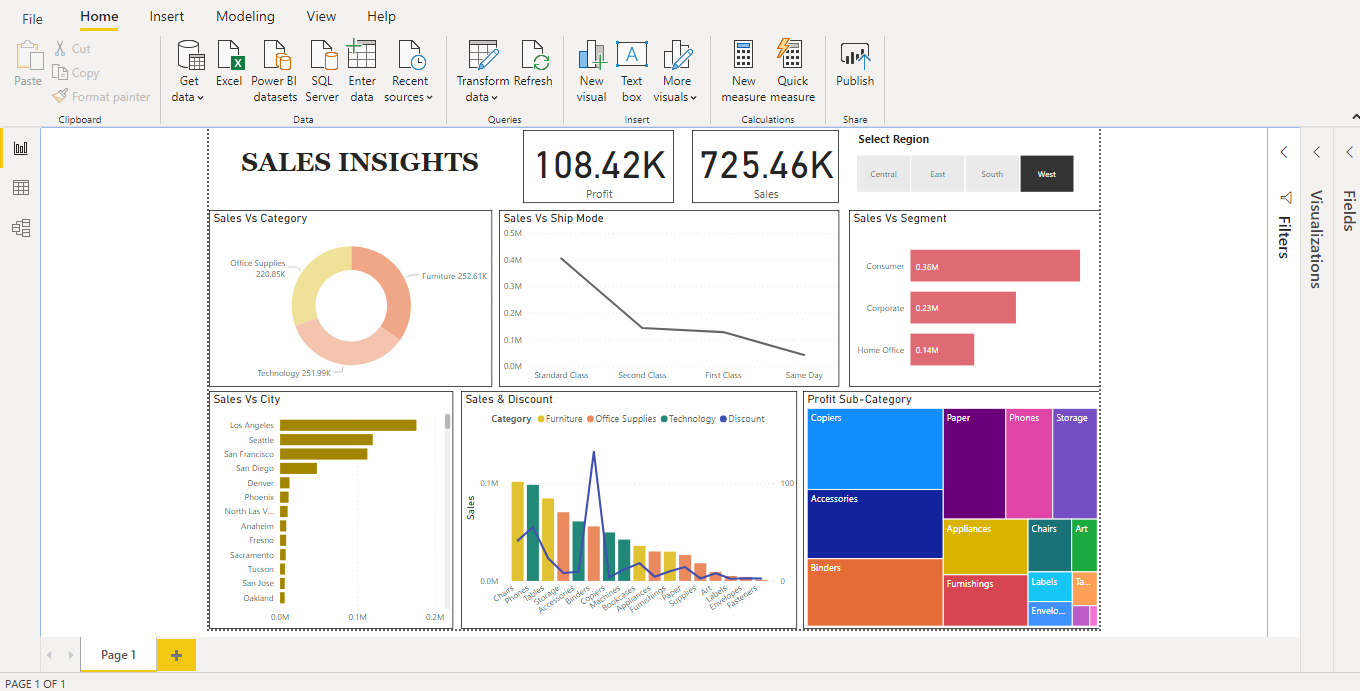

This screenshot's page, from the dashboard's own definition file:
{"tool":"powerbi","page":{"name":"Page 1","canvas":[1280,720],"ordinal":0},"visuals":[{"type":"treemap","title":"Profit Sub-Category","fields":{"Group":["SampleSuperstore.Sub-Category"],"Values":["Sum(SampleSuperstore.Profit)"]},"box":[853.7,378,426.8,342],"z":0},{"type":"card","fields":{"Values":["Sum(SampleSuperstore.Profit)"]},"box":[451.3,2.9,217,104.9],"z":1000},{"type":"donutChart","title":"Sales Vs Category","fields":{"Y":["Sum(SampleSuperstore.Sales)"],"Category":["SampleSuperstore.Category"]},"box":[0,117.8,406.7,254.4],"z":2000},{"type":"card","fields":{"Values":["Sum(SampleSuperstore.Sales)"]},"box":[694.1,2.9,211.3,104.9],"z":3000},{"type":"barChart","title":"Sales Vs City","fields":{"Category":["SampleSuperstore.City"],"Y":["Sum(SampleSuperstore.Sales)"]},"box":[0,378,350.7,342],"z":4000},{"type":"barChart","title":"Sales Vs Segment","fields":{"Category":["SampleSuperstore.Segment"],"Y":["Sum(SampleSuperstore.Sales)"]},"box":[919.8,117.8,360.7,254.4],"z":5000},{"type":"slicer","fields":{"Values":["SampleSuperstore.Region"]},"box":[905.4,18.7,360.7,80.5],"z":6000},{"type":"lineStackedColumnComboChart","title":"Sales & Discount","fields":{"Category":["SampleSuperstore.Sub-Category"],"Series":["SampleSuperstore.Category"],"Y":["Sum(SampleSuperstore.Sales)"],"Y2":["Sum(SampleSuperstore.Discount)"]},"box":[362.2,378,482.9,342],"z":7000},{"type":"textbox","box":[928.4,0,265.9,37.4],"z":8000},{"type":"textbox","box":[27.3,23,379.4,71.9],"z":9000},{"type":"lineChart","title":"Sales Vs Ship Mode","fields":{"Category":["SampleSuperstore.Ship Mode"],"Y":["Sum(SampleSuperstore.Sales)"]},"box":[416.8,117.8,488.6,254.4],"z":10000}]}

Visuals, with their boxes on the page's 1280x720 design canvas (x1, y1, x2, y2). These are canvas units, not pixel positions in the 1360x691 screenshot, which may show the page scaled, cropped or inside an application window:
"Profit Sub-Category" treemap: x1=854 y1=378 x2=1280 y2=720
card - Sum(SampleSuperstore.Profit): x1=451 y1=3 x2=668 y2=108
"Sales Vs Category" donutChart: x1=0 y1=118 x2=407 y2=372
card - Sum(SampleSuperstore.Sales): x1=694 y1=3 x2=905 y2=108
"Sales Vs City" barChart: x1=0 y1=378 x2=351 y2=720
"Sales Vs Segment" barChart: x1=920 y1=118 x2=1280 y2=372
slicer - SampleSuperstore.Region: x1=905 y1=19 x2=1266 y2=99
"Sales & Discount" lineStackedColumnComboChart: x1=362 y1=378 x2=845 y2=720
textbox: x1=928 y1=0 x2=1194 y2=37
textbox: x1=27 y1=23 x2=407 y2=95
"Sales Vs Ship Mode" lineChart: x1=417 y1=118 x2=905 y2=372
